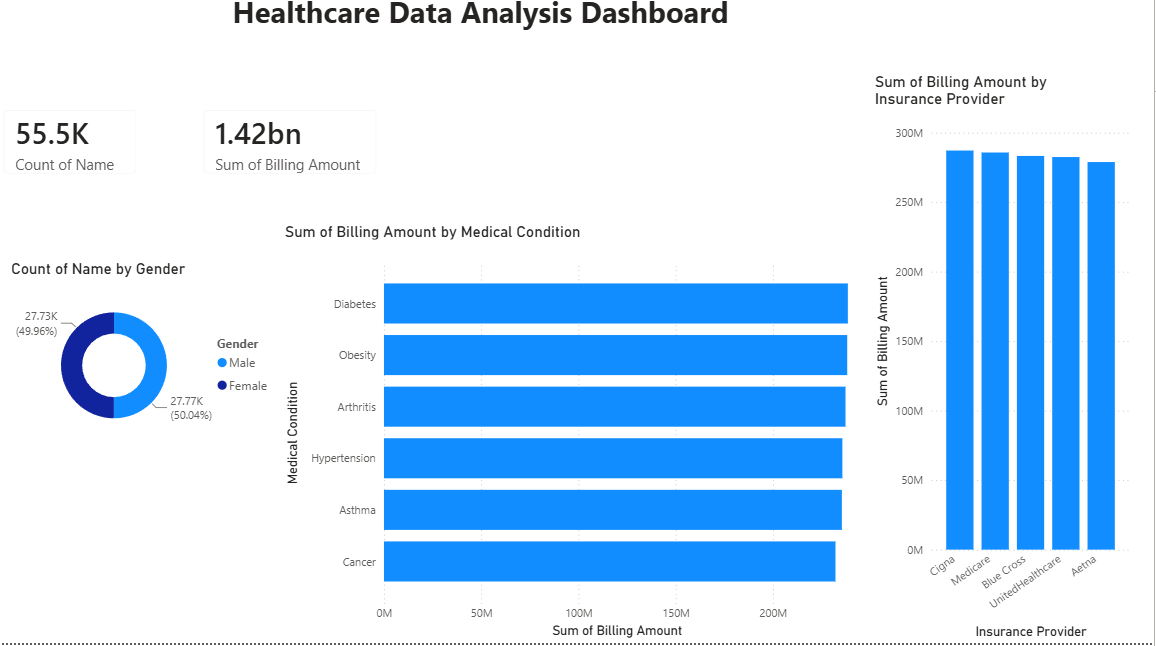

Layout of this report page (visuals, bound fields, positions):
{"tool":"powerbi","page":{"name":"Page 1","canvas":[1280,720],"ordinal":0},"visuals":[{"type":"textbox","box":[102.9,0,875.7,65.7],"z":0},{"type":"cardVisual","fields":{"Data":["CountNonNull(cleaned_healthcare_dataset.Name)"]},"box":[0,118.2,180.6,104.1],"z":1},{"type":"cardVisual","fields":{"Data":["Sum(cleaned_healthcare_dataset.Billing Amount)"]},"box":[220,118.6,224.1,104.1],"z":2},{"type":"donutChart","fields":{"Category":["cleaned_healthcare_dataset.Gender"],"Y":["CountNonNull(cleaned_healthcare_dataset.Name)"]},"box":[20,298.6,301.8,200.6],"z":3},{"type":"clusteredBarChart","fields":{"Category":["cleaned_healthcare_dataset.Medical Condition"],"Y":["Sum(cleaned_healthcare_dataset.Billing Amount)"]},"box":[321.4,258.6,647.1,461.4],"z":4},{"type":"clusteredColumnChart","fields":{"Category":["cleaned_healthcare_dataset.Insurance Provider"],"Y":["Sum(cleaned_healthcare_dataset.Billing Amount)"]},"box":[968.6,92.9,290,627.1],"z":5}]}

Visuals, with their boxes in screenshot pixels (x1, y1, x2, y2), scaled from the page's 1280x720 canvas onto the 1156x646 screenshot:
textbox: box(93, 0, 884, 59)
cardVisual - CountNonNull(cleaned_healthcare_dataset.Name): box(0, 106, 163, 199)
cardVisual - Sum(cleaned_healthcare_dataset.Billing Amount): box(199, 106, 401, 200)
donutChart - cleaned_healthcare_dataset.Gender x CountNonNull(cleaned_healthcare_dataset.Name): box(18, 268, 291, 448)
clusteredBarChart - cleaned_healthcare_dataset.Medical Condition x Sum(cleaned_healthcare_dataset.Billing Amount): box(290, 232, 875, 645)
clusteredColumnChart - cleaned_healthcare_dataset.Insurance Provider x Sum(cleaned_healthcare_dataset.Billing Amount): box(875, 83, 1137, 645)
